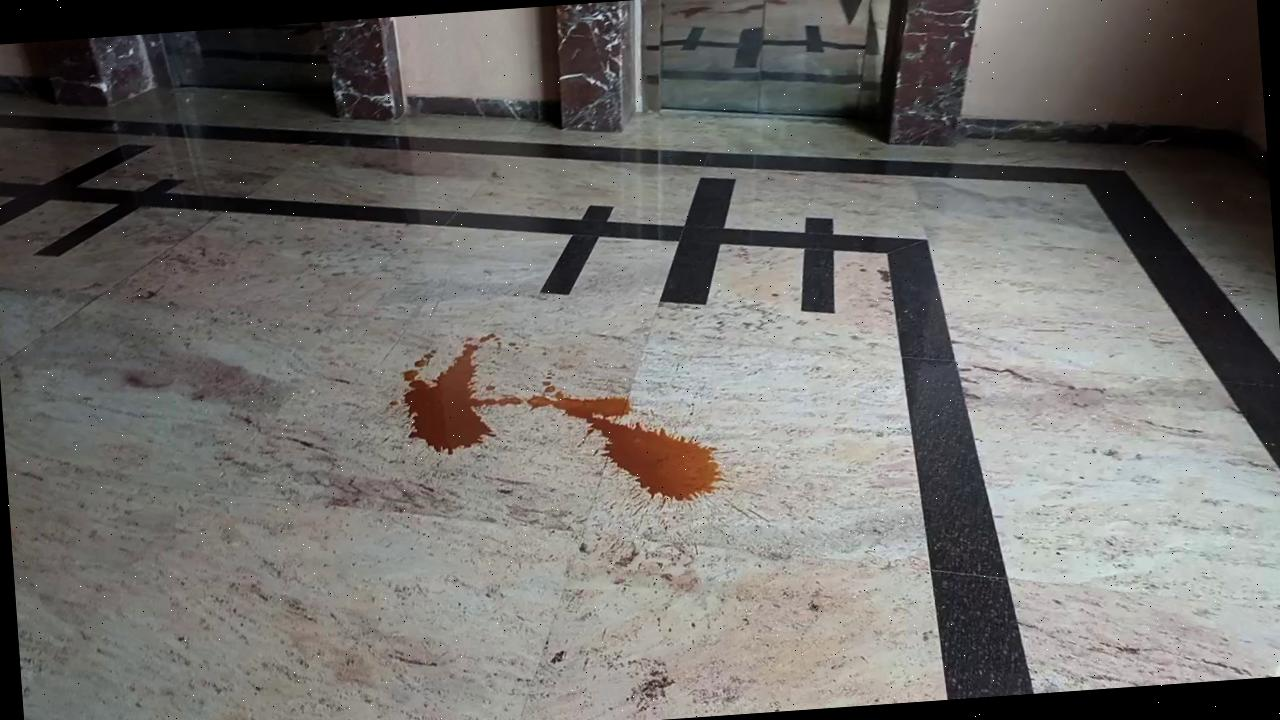dirty_floor: (392, 315, 724, 517)
